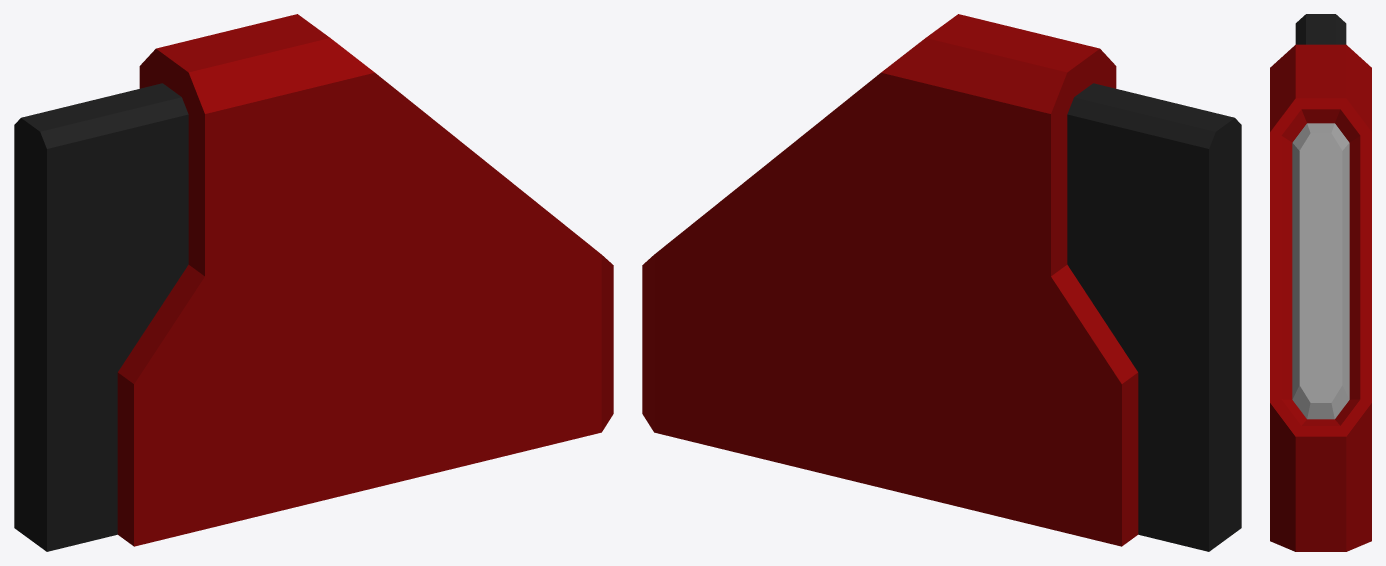
The model's file is SM_Strut.fbx.
3 renders of one model, left to right at view 1: azimuth 30°, elevation 25°; view 2: azimuth 150°, elevation 25°; view 3: azimuth 270°, elevation 25°, orthographic. The views are drawn at different scales.
Parts seen in each view (by area): view 1: Cube; view 2: Cube; view 3: Cube.
Part boxes in pixels (x1,y1,x2,y2): Cube: (14,14,613,551); Cube: (642,14,1241,551); Cube: (1270,14,1371,551).
Size of the model in its own units: 200 by 150 by 40.
